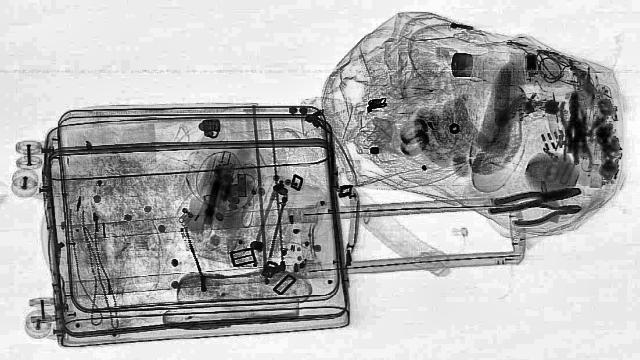Pliers: (482, 183, 586, 214), (563, 90, 597, 168), (510, 198, 584, 226)
